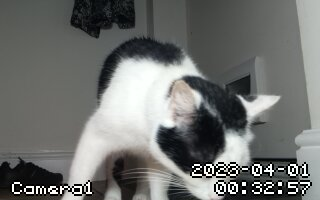bad: (63, 35, 280, 194)
